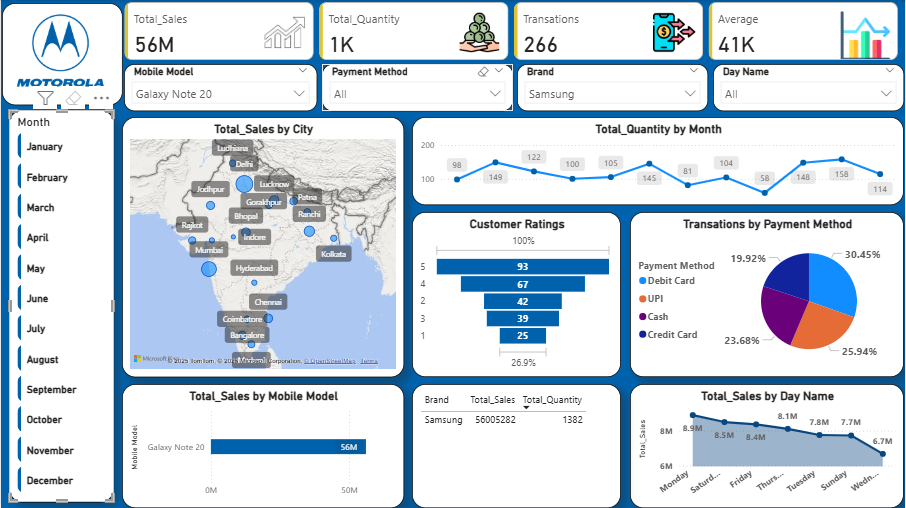

What the dashboard file says about the page in this screenshot:
{"tool":"powerbi","page":{"name":"Page 1","canvas":[1280,720],"ordinal":0},"visuals":[{"type":"shape","box":[1.4,4.3,171.5,144.6],"z":0},{"type":"image","box":[15.6,4.3,137.5,134.6],"z":1000},{"type":"shape","box":[11.3,155.9,147.4,555.6],"z":2000},{"type":"advancedSlicerVisual","fields":{"Values":["Sheet1.Date.Variation.Date Hierarchy.Month"]},"box":[11.3,155.9,148.8,555.6],"z":3000},{"type":"cardVisual","fields":{"Data":["Sales_Data.Total_Sales","Sales_Data.Total_Quantity","Sales_Data.Transations","Sales_Data.Average"]},"box":[170.1,0,1108.3,96.4],"z":4000},{"type":"map","fields":{"Category":["Sales_Data.City"],"Size":["Sales_Data.Total_Sales"]},"box":[171.5,165.8,399.7,368.5],"z":5000},{"type":"lineChart","fields":{"Category":["Sales_Data.Date.Variation.Date Hierarchy.Month","Sales_Data.Date.Variation.Date Hierarchy.Day"],"Y":["Sales_Data.Total_Quantity"]},"box":[582.5,165.8,697.3,124.7],"z":6000},{"type":"clusteredBarChart","fields":{"Category":["Sales_Data.Mobile Model"],"Y":["Sales_Data.Total_Sales"]},"box":[171.5,544.3,399.7,175.7],"z":7000},{"type":"pieChart","fields":{"Category":["Sales_Data.Payment Method"],"Y":["Sales_Data.Transations"]},"box":[891.5,300.5,388.3,233.9],"z":8000},{"type":"funnel","title":" Customer Ratings ","fields":{"Category":["Sales_Data.Customer Ratings"],"Y":["CountNonNull(Sales_Data.Customer Ratings)"]},"box":[582.5,300.5,296.2,233.9],"z":9000},{"type":"areaChart","fields":{"Category":["Sales_Data.Day Name"],"Y":["Sales_Data.Total_Sales"]},"box":[891.5,544.3,388.3,175.7],"z":10000},{"type":"tableEx","fields":{"Values":["Sales_Data.Brand","Sales_Data.Total_Sales","Sales_Data.Total_Quantity"]},"box":[582.5,544.3,296.2,175.7],"z":11000},{"type":"slicer","fields":{"Values":["Sales_Data.Mobile Model"]},"box":[174.3,90.7,273.5,66.6],"z":12000},{"type":"slicer","fields":{"Values":["Sales_Data.Day Name"]},"box":[1009.1,90.7,270.7,66.6],"z":13000},{"type":"slicer","fields":{"Values":["Sales_Data.Brand"]},"box":[731.3,90.7,270.7,66.6],"z":14000},{"type":"slicer","fields":{"Values":["Sales_Data.Payment Method"]},"box":[455,90.7,270.7,66.6],"z":15000}]}

Visuals, with their boxes in screenshot pixels (x1, y1, x2, y2), scaled from the page's 1280x720 canvas onto the 906x508 screenshot:
shape: (1, 3, 122, 105)
image: (11, 3, 108, 98)
shape: (8, 110, 112, 502)
advancedSlicerVisual - Sheet1.Date.Variation.Date Hierarchy.Month: (8, 110, 113, 502)
cardVisual - Sales_Data.Total_Sales x Sales_Data.Total_Quantity: (120, 0, 905, 68)
map - Sales_Data.City x Sales_Data.Total_Sales: (121, 117, 404, 377)
lineChart - Sales_Data.Date.Variation.Date Hierarchy.Month x Sales_Data.Date.Variation.Date Hierarchy.Day: (412, 117, 905, 205)
clusteredBarChart - Sales_Data.Mobile Model x Sales_Data.Total_Sales: (121, 384, 404, 507)
pieChart - Sales_Data.Payment Method x Sales_Data.Transations: (631, 212, 905, 377)
" Customer Ratings " funnel: (412, 212, 622, 377)
areaChart - Sales_Data.Day Name x Sales_Data.Total_Sales: (631, 384, 905, 507)
tableEx - Sales_Data.Brand x Sales_Data.Total_Sales: (412, 384, 622, 507)
slicer - Sales_Data.Mobile Model: (123, 64, 317, 111)
slicer - Sales_Data.Day Name: (714, 64, 905, 111)
slicer - Sales_Data.Brand: (518, 64, 709, 111)
slicer - Sales_Data.Payment Method: (322, 64, 514, 111)
